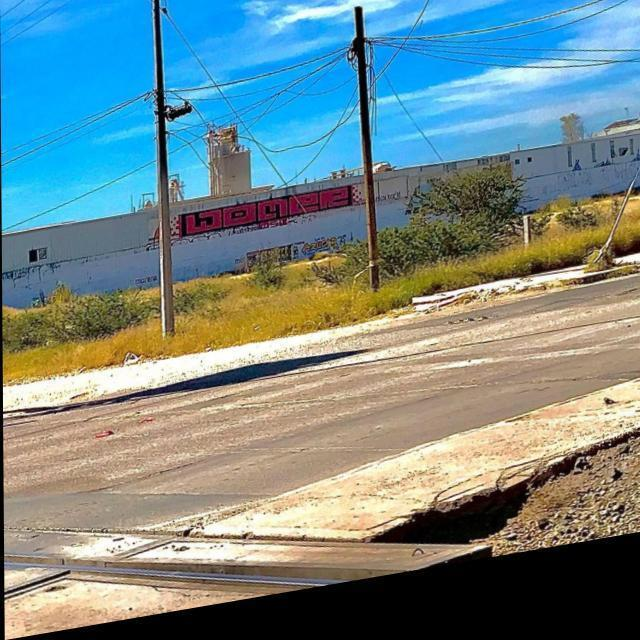nonspitting: (179, 186, 351, 236)
